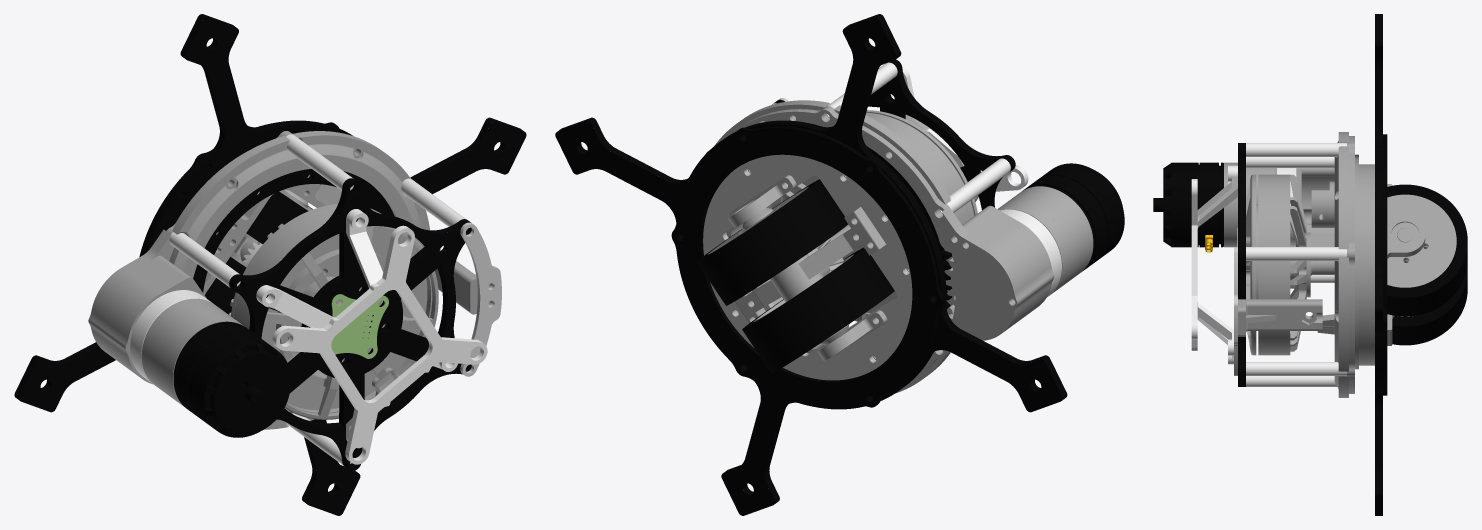
The model's file is omni-wheel.glb.
3 views of the same model, side by side, from view 1: azimuth 30°, elevation 25°; view 2: azimuth 150°, elevation 25°; view 3: azimuth 270°, elevation 25° (orthographic). The views are drawn at different scales.
Parts seen in each view (by area): view 1: 650370-åç¹èµè½®æ¬ææ¿, 650140-å¡ä¸å±æ¿, 650190-RoboMaster M3508ç´æµæ å·åéçµæº, 650320-é©±å¨æ¿æ¯æä»¶, 650250-v8110, 650301-èµåå¤§é½¿è½®é²å°æ¿ï¼3ï¼, 650180-3508æ¶å, 650301-èµåå¤§é½¿è½®é²å°æ¿ï¼1ï¼ (×2), 650130-4x7x50éæ± (×4), 650100-èµåå¤§é½¿è½®75Ã1.5_åä½-0.22, 650330-æ¥è¿å¼å³åºå®ç¢³æ¿, 650240-PUåè¶ (×2) (+4 smaller); view 2: 650380-åºé¨é²å°æ¿å¤, 650370-åç¹èµè½®æ¬ææ¿, 650240-PUåè¶ (×2), 650050-èµè½®æ¯ææ¿--100mm, 650190-RoboMaster M3508ç´æµæ å·åéçµæº, 650290-èµåå°é½¿è½®é²å°æ¿, 650110-å¤åæ¯æ¿, 650010_å®ä½æ¶, 650180-3508æ¶å, 650140-å¡ä¸å±æ¿, 650250-v8110, 650090-æ¯ææ¶-2 (×2) (+5 smaller); view 3: 650250-v8110, 650240-PUåè¶ (×2), 650130-4x7x50éæ± (×5), 650190-RoboMaster M3508ç´æµæ å·åéçµæº, 650230-å¤éè½®æ¯_è½®æ¯, 650040--RA-12008Cååæ³å°ç-6-0, 650370-åç¹èµè½®æ¬ææ¿, 650301-èµåå¤§é½¿è½®é²å°æ¿ï¼1ï¼ (×2), 650320-é©±å¨æ¿æ¯æä»¶, 650340- æ¥è¿å¼å³åºå® (æå°ä»¶), 650180-3508æ¶å, 650140-å¡ä¸å±æ¿ (+7 smaller).
Boxes of the visible parts, x1,y1,x2,y2 form: 650370-åç¹èµè½®æ¬ææ¿: [14, 14, 526, 515]; 650140-å¡ä¸å±æ¿: [229, 178, 471, 470]; 650190-RoboMaster M3508ç´æµæ å·åéçµæº: [130, 290, 291, 437]; 650320-é©±å¨æ¿æ¯æä»¶: [256, 209, 487, 464]; 650250-v8110: [228, 204, 438, 419]; 650301-èµåå¤§é½¿è½®é²å°æ¿ï¼3ï¼: [169, 136, 296, 278]; 650180-3508æ¶å: [95, 255, 206, 384]; 650301-èµåå¤§é½¿è½®é²å°æ¿ï¼1ï¼ (×2): [293, 131, 429, 244]; 650130-4x7x50éæ± (×4): [169, 134, 466, 465]; 650100-èµåå¤§é½¿è½®75Ã1.5_åä½-0.22: [193, 169, 394, 292]; 650330-æ¥è¿å¼å³åºå®ç¢³æ¿: [460, 222, 501, 376]; 650240-PUåè¶ (×2): [205, 191, 312, 314]; 650380-åºé¨é²å°æ¿å¤: [671, 126, 943, 408]; 650370-åç¹èµè½®æ¬ææ¿: [555, 14, 1067, 515]; 650240-PUåè¶ (×2): [697, 179, 894, 373]; 650050-èµè½®æ¯ææ¿--100mm: [703, 154, 912, 380]; 650190-RoboMaster M3508ç´æµæ å·åéçµæº: [998, 163, 1124, 297]; 650290-èµåå°é½¿è½®é²å°æ¿: [942, 210, 1019, 357]; 650110-å¤åæ¯æ¿: [706, 106, 1024, 381]; 650010_å®ä½æ¶: [734, 207, 886, 323]; 650180-3508æ¶å: [962, 205, 1054, 327]; 650140-å¡ä¸å±æ¿: [773, 59, 1015, 210]; 650250-v8110: [771, 110, 977, 321]; 650090-æ¯ææ¶-2 (×2): [728, 175, 887, 360]; 650250-v8110: [1246, 174, 1306, 355]; 650240-PUåè¶ (×2): [1387, 184, 1467, 345]; 650130-4x7x50éæ± (×5): [1246, 143, 1346, 386]; 650190-RoboMaster M3508ç´æµæ å·åéçµæº: [1153, 162, 1296, 252]; 650230-å¤éè½®æ¯_è½®æ¯: [1387, 194, 1456, 287]; 650040--RA-12008Cååæ³å°ç-6-0: [1355, 160, 1374, 369]; 650370-åç¹èµè½®æ¬ææ¿: [1375, 14, 1382, 515]; 650301-èµåå¤§é½¿è½®é²å°æ¿ï¼1ï¼ (×2): [1334, 146, 1348, 371]; 650320-é©±å¨æ¿æ¯æä»¶: [1191, 165, 1237, 364]; 650340- æ¥è¿å¼å³åºå® (æå°ä»¶): [1238, 299, 1322, 336]; 650180-3508æ¶å: [1296, 168, 1334, 246]; 650140-å¡ä¸å±æ¿: [1238, 143, 1245, 386].
Bounding box in the file's own units: 0.2444 × 0.2444 × 0.1561.
